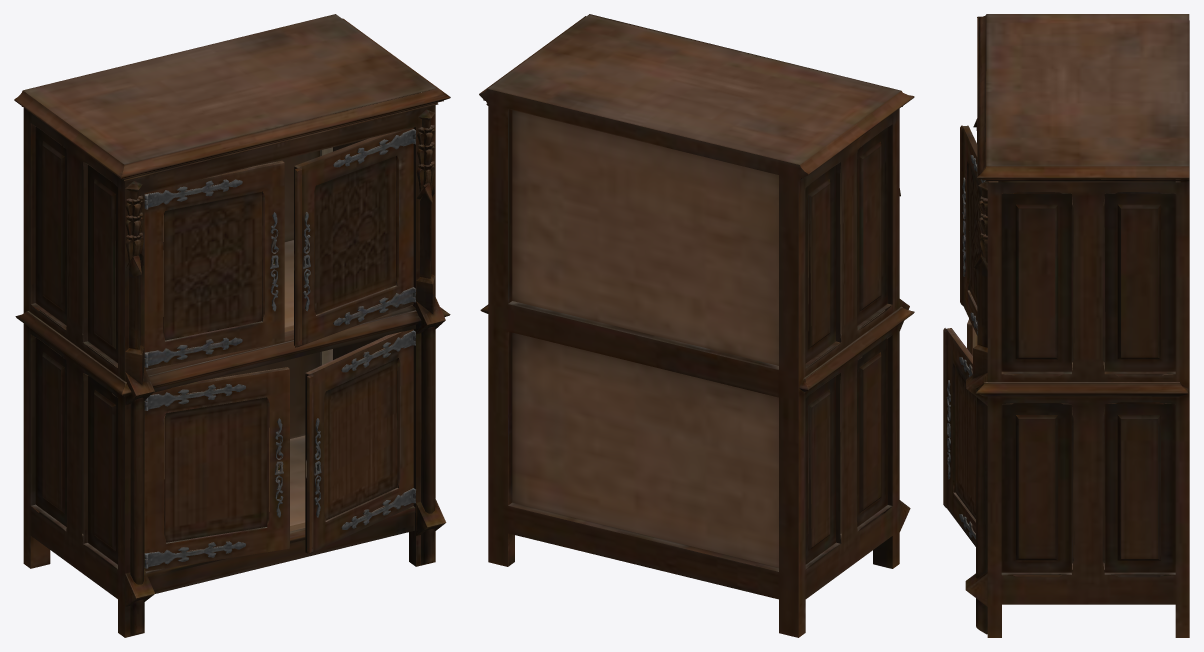
Rendered from GothicCabinet_01.glb.
The picture shows the model from 3 angles, left to right: view 1: azimuth 30°, elevation 25°; view 2: azimuth 150°, elevation 25°; view 3: azimuth 270°, elevation 25°; orthographic projection.
Parts seen in each view (by area): view 1: c02_wood, c00_wood, c14_wood, c21_wood, c05_wood, c04_wood, c17_wood, c09_wood, c06_wood, c01_wood, c10_wood, c03_wood (+9 smaller); view 2: c06_wood, c02_wood, c00_wood, c05_wood, c04_wood, c01_wood; view 3: c03_wood, c00_wood, c05_wood, c04_wood, c09_wood, c06_wood, c17_wood, c10_wood, c02_wood, c18_wood, c01_wood.
Part boxes in pixels (x1,y1,x2,y2): c02_wood: (23, 108, 445, 637); c00_wood: (23, 14, 437, 164); c14_wood: (144, 367, 289, 571); c21_wood: (144, 160, 284, 369); c05_wood: (84, 93, 445, 635); c04_wood: (15, 88, 450, 632); c17_wood: (294, 127, 413, 346); c09_wood: (305, 329, 413, 553); c06_wood: (14, 18, 450, 512); c01_wood: (36, 162, 305, 568); c10_wood: (305, 373, 321, 554); c03_wood: (416, 169, 435, 314); c06_wood: (479, 16, 914, 637); c02_wood: (508, 108, 910, 637); c00_wood: (487, 14, 900, 164); c05_wood: (857, 299, 914, 568); c04_wood: (480, 14, 914, 513); c01_wood: (800, 162, 885, 569); c03_wood: (972, 182, 1189, 637); c00_wood: (986, 14, 1189, 166); c05_wood: (966, 121, 1071, 572); c04_wood: (966, 15, 1189, 634); c09_wood: (946, 328, 975, 546); c06_wood: (977, 16, 1189, 182); c17_wood: (962, 125, 994, 335); c10_wood: (943, 328, 950, 508); c02_wood: (965, 118, 1189, 637); c18_wood: (960, 125, 969, 305); c01_wood: (1001, 179, 1175, 576).
Bounding box in the file's own units: 1.72 × 2.36 × 1.12.
1 material, 1 textured.
